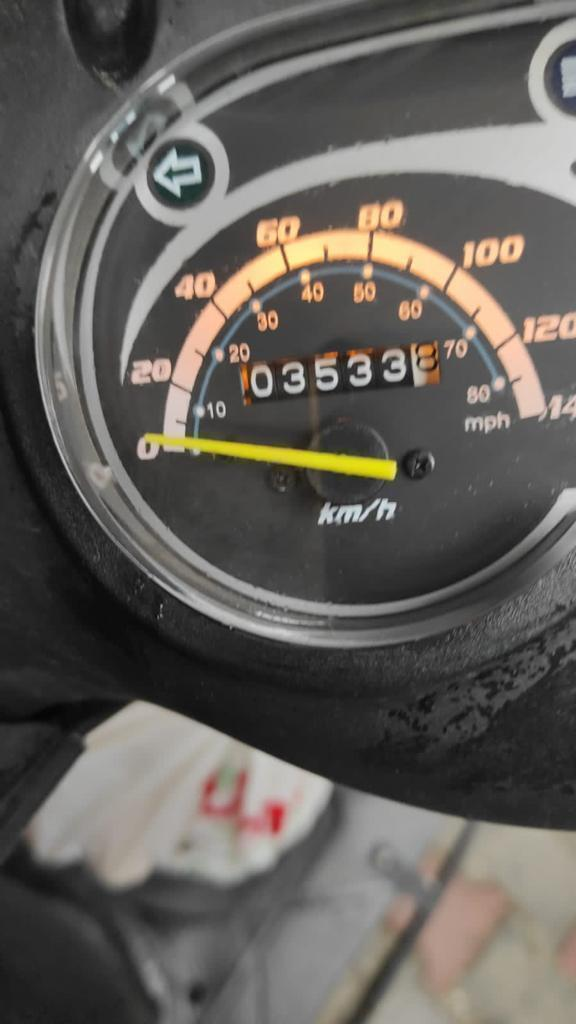0: (249, 361, 274, 400), (238, 341, 251, 361)
3: (346, 350, 375, 389), (381, 346, 409, 385), (279, 358, 307, 397)
5: (313, 356, 341, 394)
8: (415, 340, 439, 376)
odometer: (236, 338, 445, 410)
